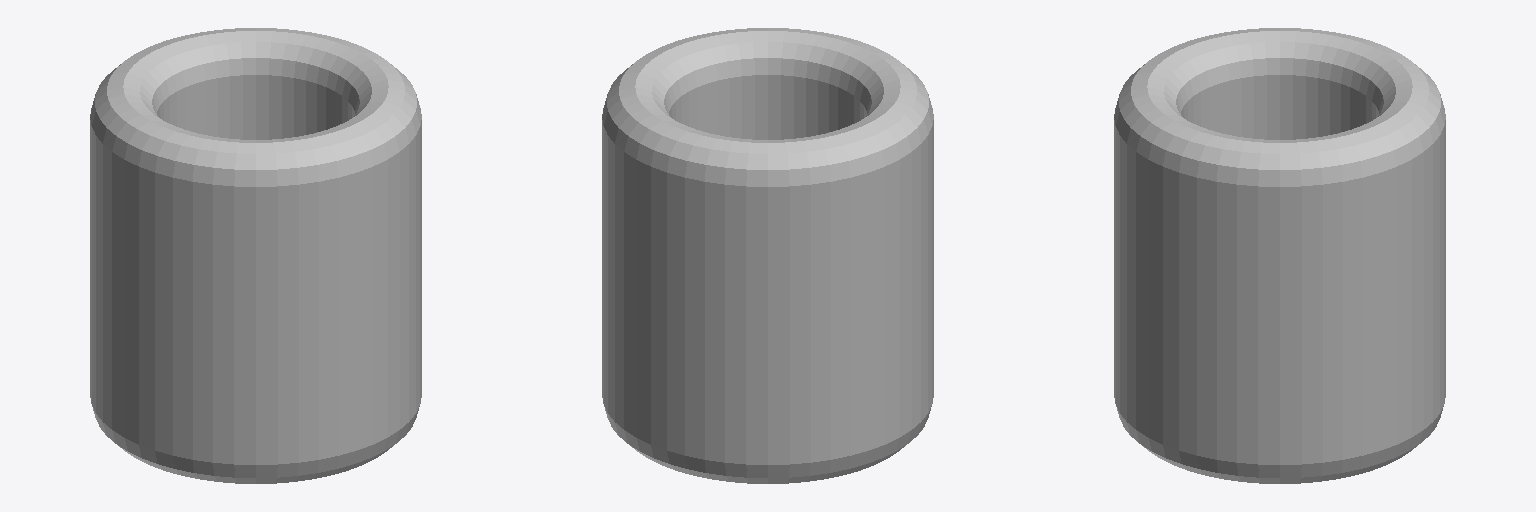
File: transparent.obj
3 renders of one model, left to right at view 1: azimuth 30°, elevation 25°; view 2: azimuth 150°, elevation 25°; view 3: azimuth 270°, elevation 25°, orthographic.
Visible parts, largest first — view 1: Torus; view 2: Torus; view 3: Torus.
Part boxes in pixels (bbox=[...]): Torus: bbox=[90, 28, 421, 483]; Torus: bbox=[602, 28, 933, 483]; Torus: bbox=[1114, 28, 1445, 483].
Bounding box in the file's own units: 2.5 × 2.81 × 2.5.